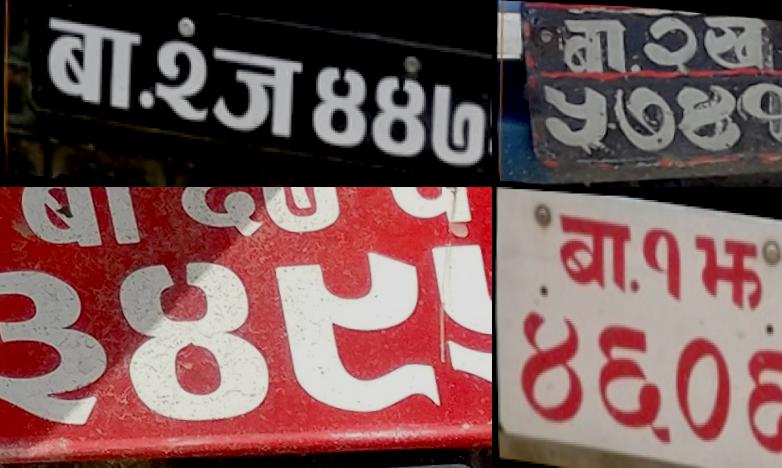0: (669, 318, 738, 452)
1: (638, 217, 689, 309), (734, 77, 782, 152)
2: (149, 27, 214, 125), (637, 10, 700, 79)
3: (0, 252, 116, 434)
4: (98, 243, 282, 428), (512, 301, 588, 430), (305, 48, 373, 147), (364, 61, 432, 159), (674, 79, 742, 153)
5: (416, 212, 492, 410), (536, 80, 611, 156)
6: (586, 309, 676, 446), (733, 326, 782, 468), (163, 187, 268, 248)
7: (423, 68, 492, 166), (606, 81, 678, 160), (246, 187, 349, 241)
9: (260, 234, 449, 418)
ba: (38, 4, 145, 113), (0, 187, 151, 253), (551, 206, 635, 299), (554, 11, 632, 79)
ja: (206, 32, 307, 142)
jha: (689, 223, 771, 314)
kha: (700, 11, 776, 74)
pa: (361, 187, 487, 225)
